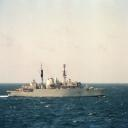Fragata: (7, 64, 109, 99)
